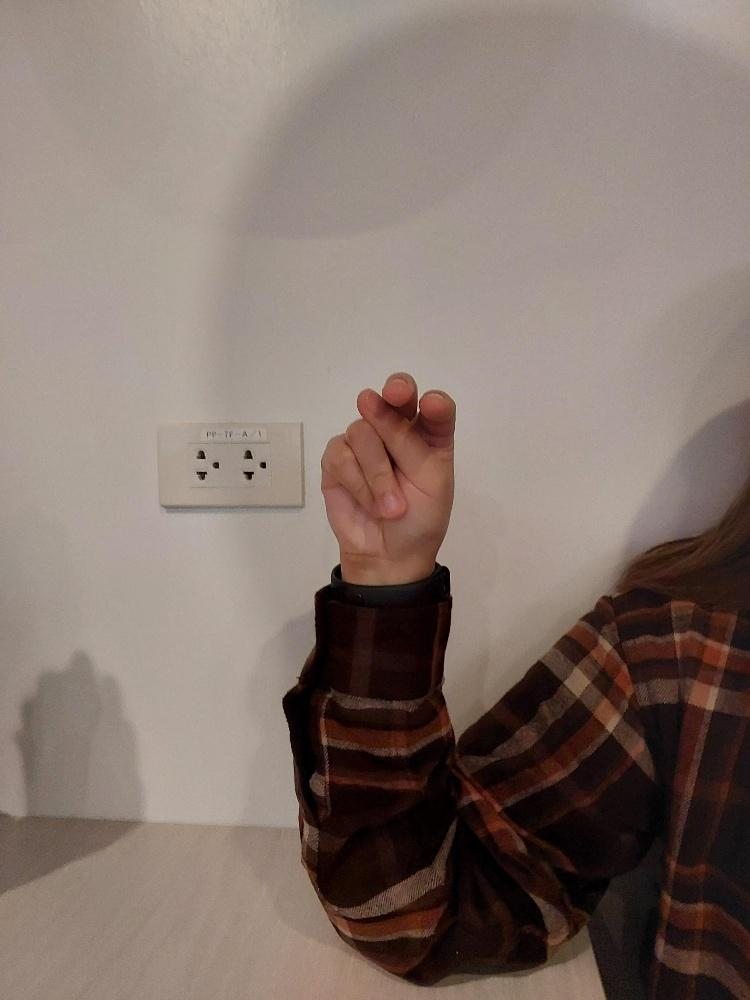n: (318, 364, 458, 571)
